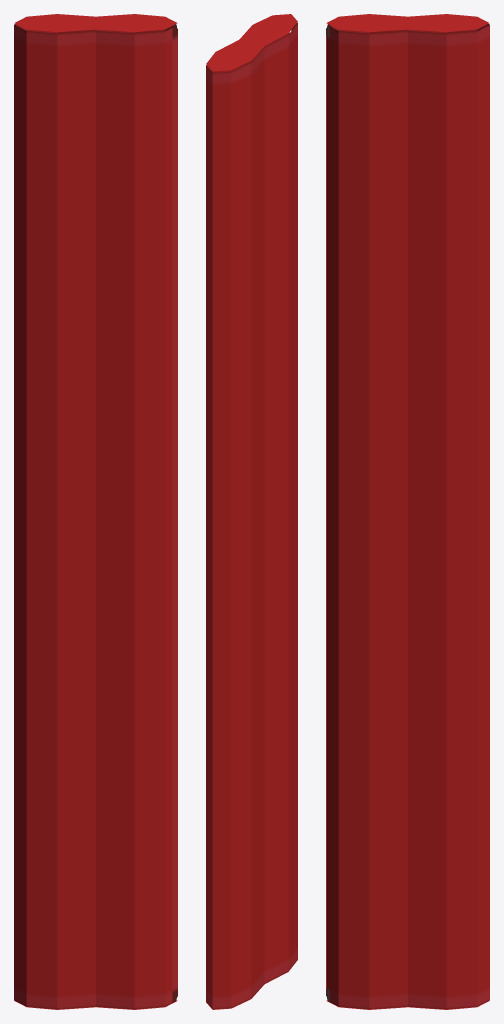
File: WireDeactivated.fbx
3 renders of one model, left to right at view 1: azimuth 90°, elevation 25°; view 2: azimuth 150°, elevation 25°; view 3: azimuth 270°, elevation 25°, orthographic. The views are drawn at different scales.
Visible parts, largest first — view 1: Cylinder.008; view 2: Cylinder.008; view 3: Cylinder.008.
Boxes of the visible parts, x1=… form: Cylinder.008: x1=14, y1=14, x2=177, y2=1009; Cylinder.008: x1=206, y1=14, x2=297, y2=1009; Cylinder.008: x1=326, y1=14, x2=489, y2=1009.
Size of the model in its own units: 20 by 500 by 75.89.
